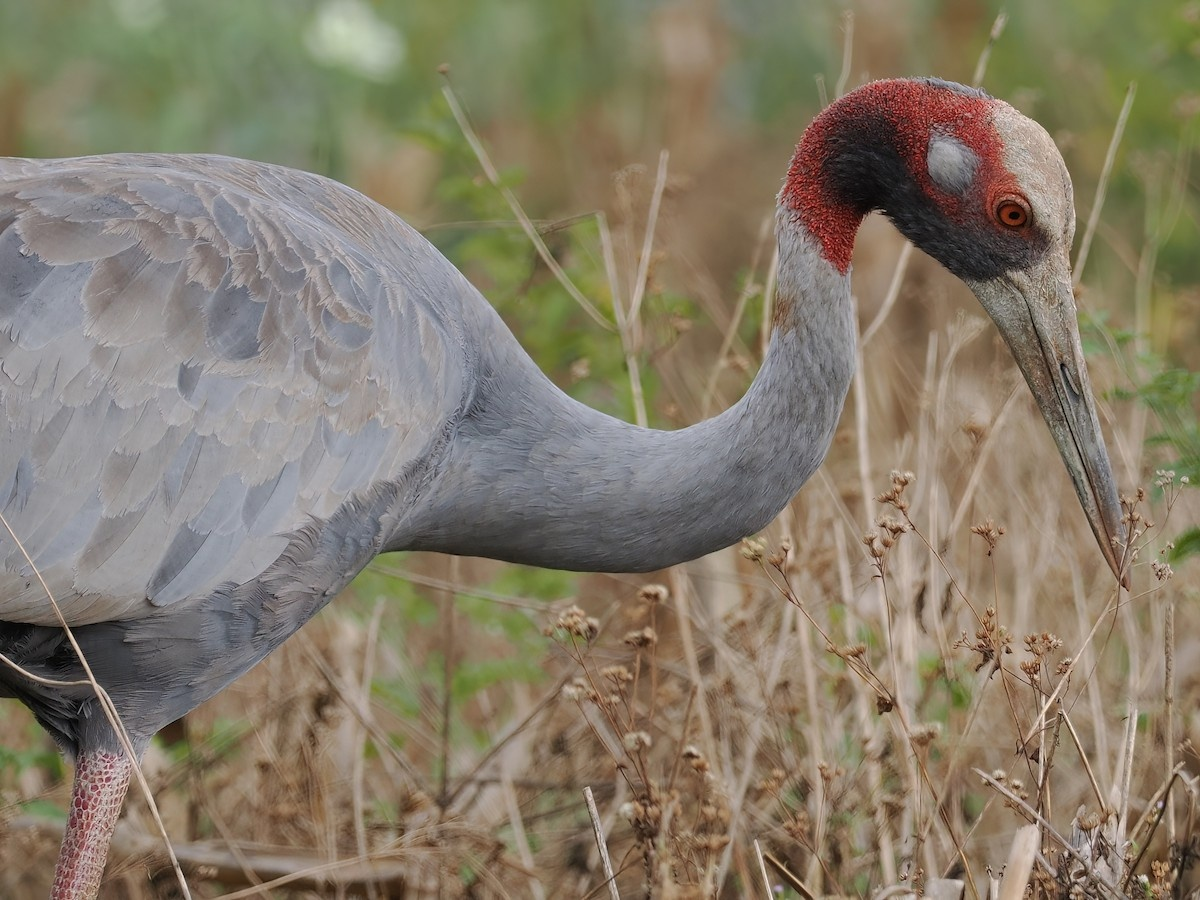crane: (1, 76, 1177, 891)
